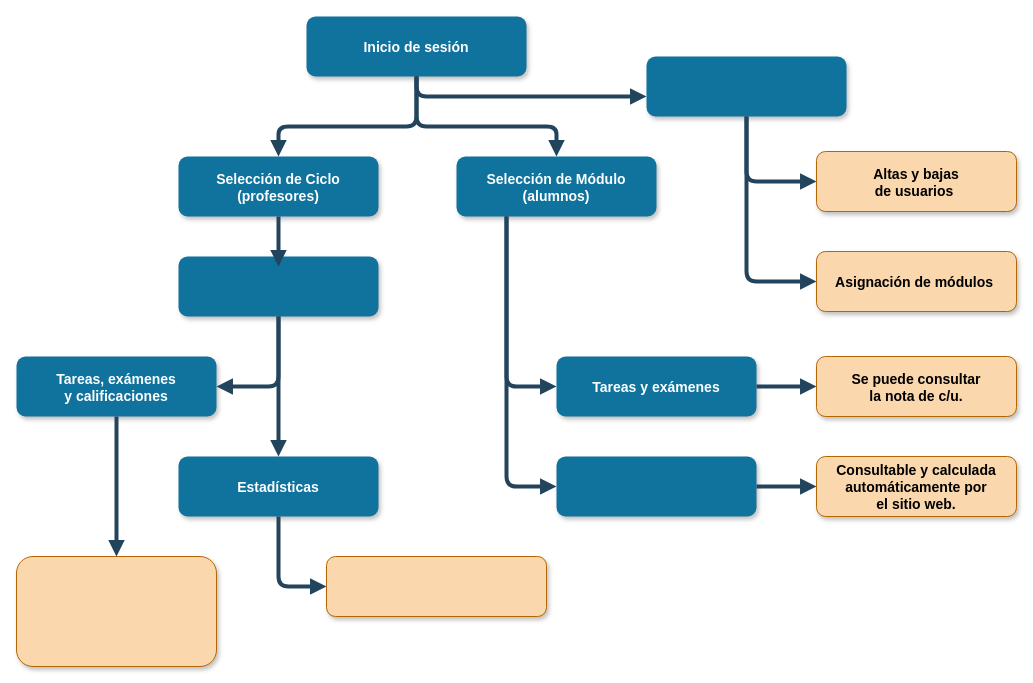
Some shapes in this 1033 by 683 pixel diagram are drawn without their labels. The shapes that lost their labels are listed below. From the top down, each one's centre as x and y in pixels, then its label:
point (747, 87): Administración
point (279, 287): Selección de Módulo (profesores)
point (657, 487): Calificaciones
point (437, 588): Calificaciones y estadísticas de las evaluaciones y finales de los alumnos.
point (117, 613): Asignaciones de tareas y exámenes y las calificaciones de cada alumno en c/u.
